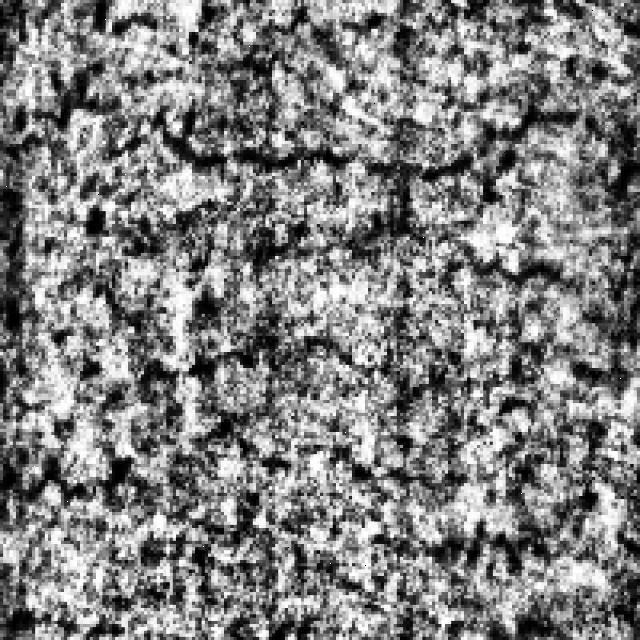Pitted_Surface: (0, 0, 624, 198), (4, 333, 486, 499)
